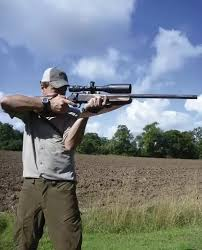Gun: (73, 86, 190, 117)
